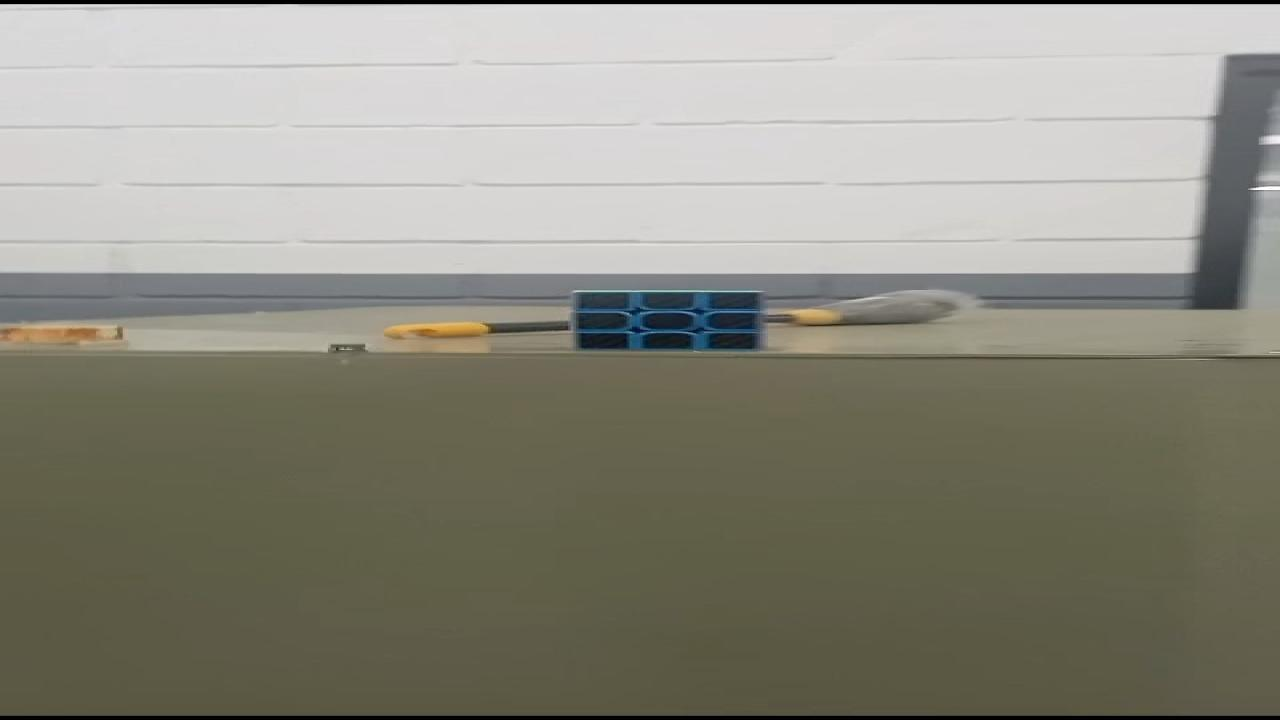Cube: (566, 288, 766, 352)
